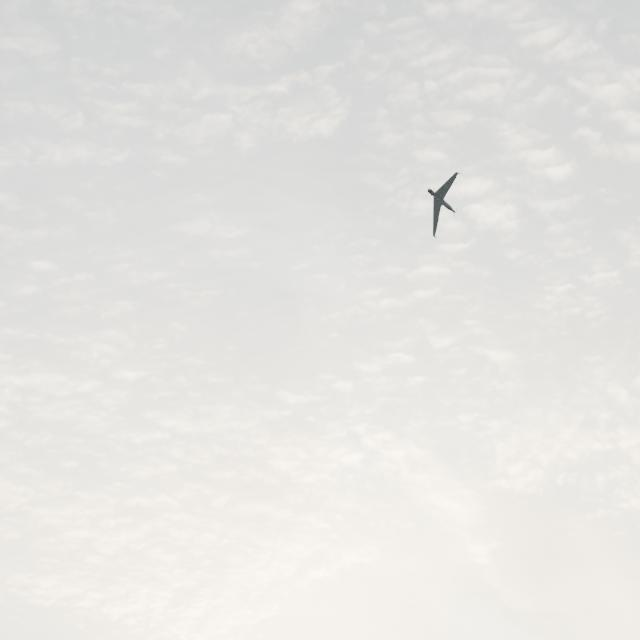Airaplan: (427, 172, 461, 238)
